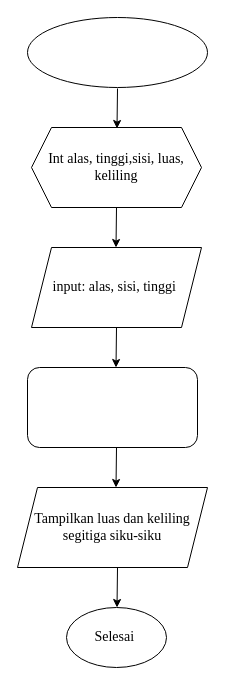
Some shapes in this 225 by 685 pixel diagram are drawn without their labels. The shapes that lost their labels are listed below. From the top down, each one's centre as x and y in pixels, then its label:
At point (117, 52): "Mulai".
At point (112, 407): "Luas: a * t/ 2 Keliling: sisi+sisi+sisi".
